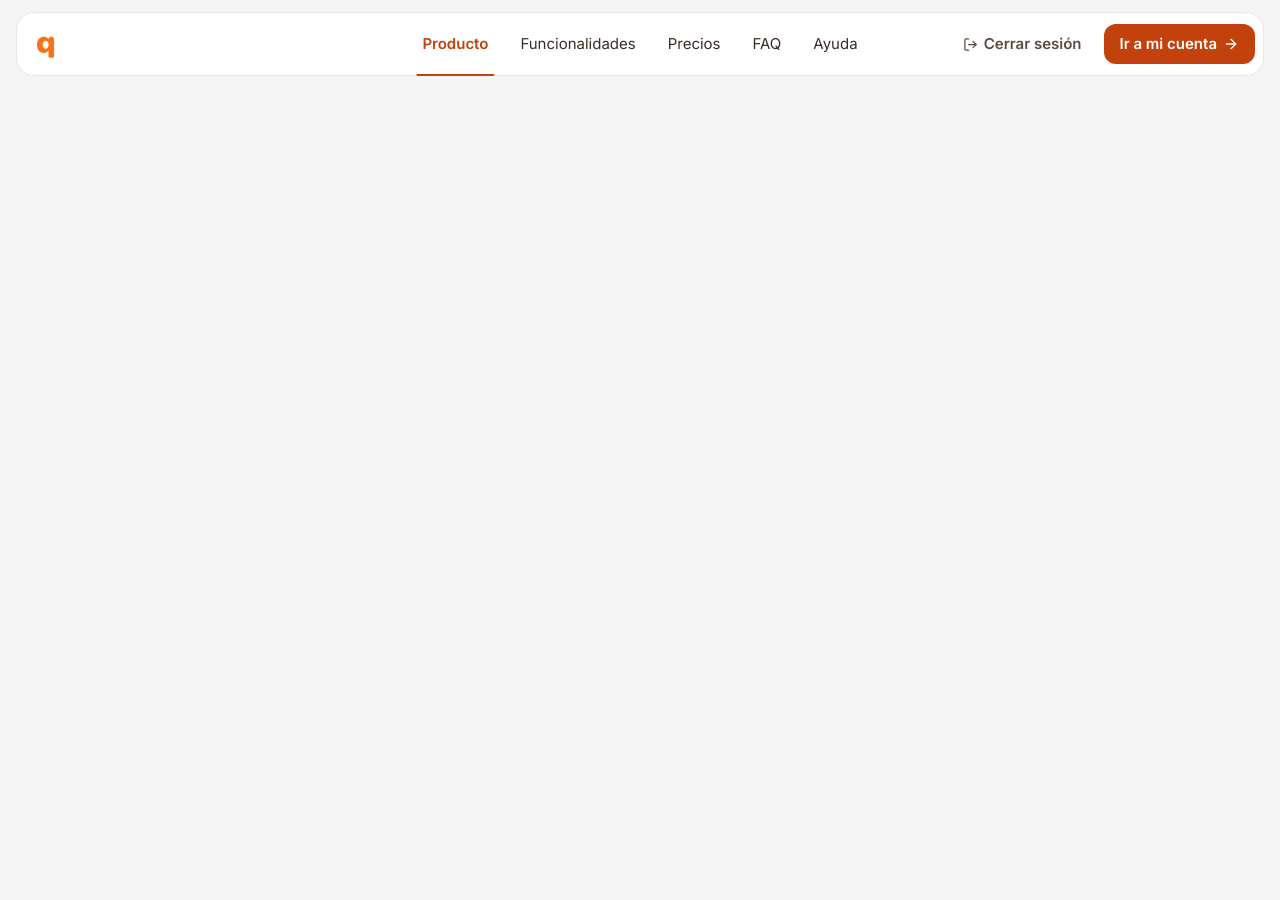
the landing and the session › a failed sign-out says why
The width and height of the screenshot is (1280, 900).
Click the button "Cerrar sesión": (1022, 44) [947, 24, 1098, 64]
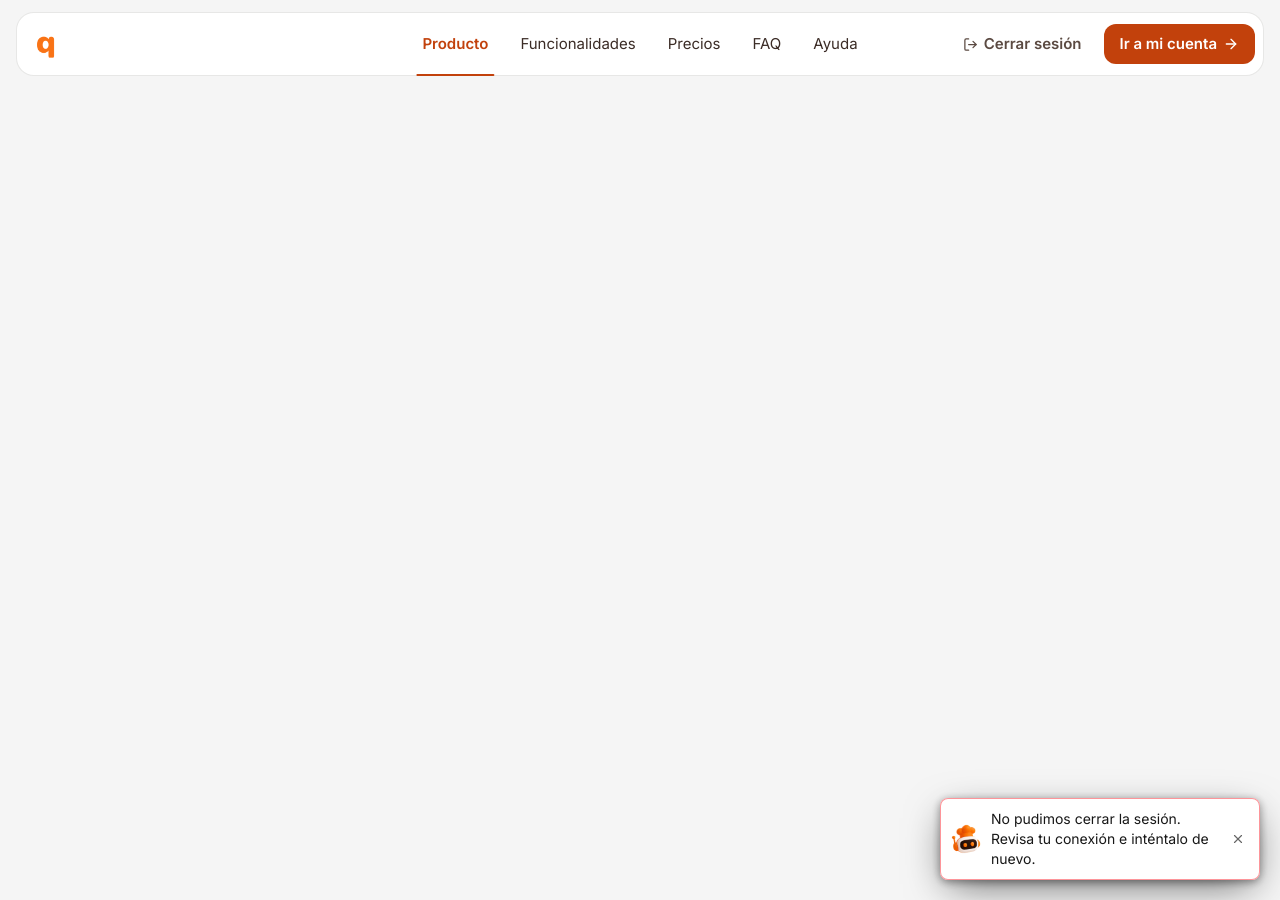
Result: the text "No pudimos cerrar la sesión" is shown at [991, 810, 1209, 867]
